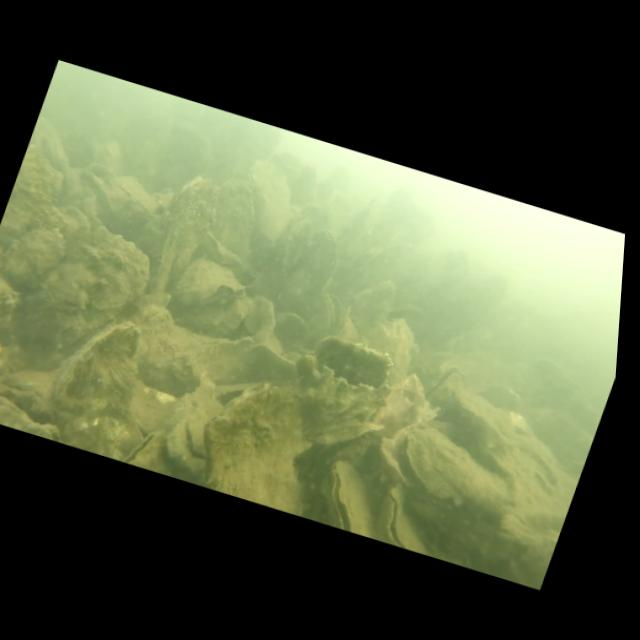Oyster-Closed: (183, 366, 345, 517), (38, 306, 158, 448), (138, 164, 228, 306), (75, 160, 168, 232), (0, 379, 72, 442), (0, 359, 64, 422)
Oyster-Indeterminate: (11, 213, 161, 373), (0, 141, 83, 279), (193, 174, 273, 270), (0, 220, 71, 305), (285, 224, 346, 315)
Oyster-Open: (362, 412, 526, 526), (281, 328, 398, 436), (310, 458, 392, 538), (368, 478, 451, 556), (167, 251, 253, 321), (254, 207, 318, 301), (158, 410, 221, 473), (118, 419, 186, 476), (421, 361, 469, 419), (306, 290, 352, 342)
